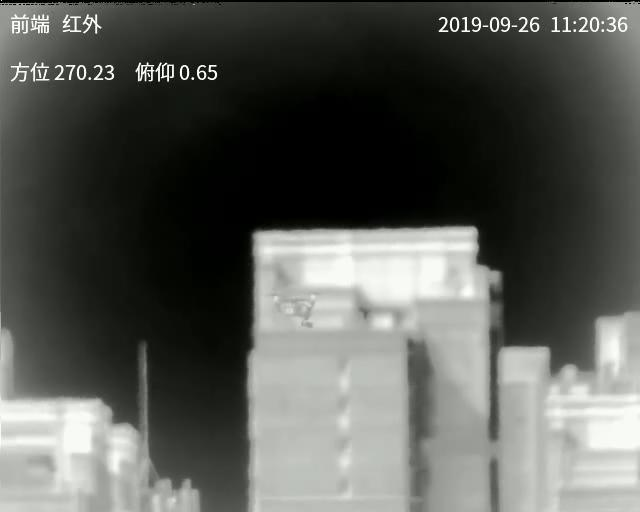uav: (271, 289, 322, 333)
